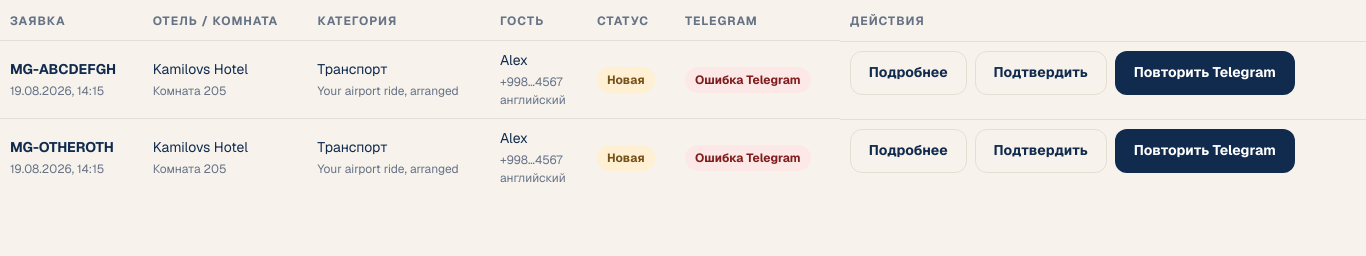
Scenario: RequestTable › updates one row after successful retry
Click the button "Повторить Telegram" in the row of "MG-ABCDEFGH" at point(1205, 72), box top-left (1115, 50), bottom-right (1295, 94)
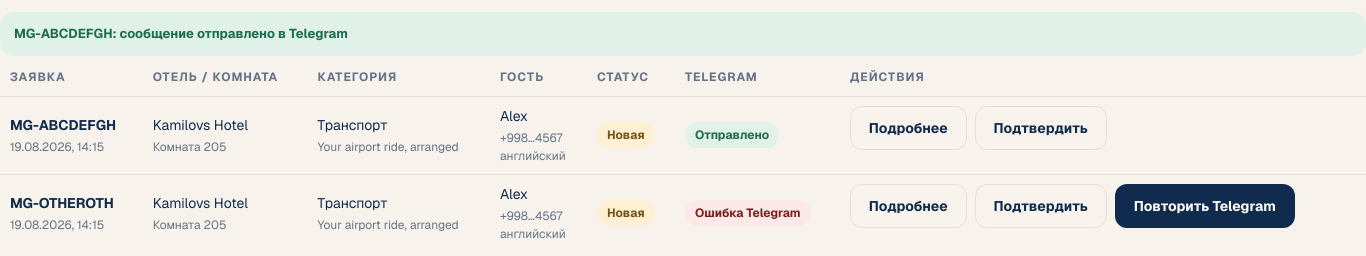
Check: the text "Отправлено" is shown, box top-left (685, 122), bottom-right (779, 148)
Check: the number of buttons "Повторить Telegram" is 1, box top-left (1115, 184), bottom-right (1295, 228)
Check: the text "MG-ABCDEFGH: сообщение отправлено в Telegram" is shown, box top-left (0, 12), bottom-right (1365, 56)
